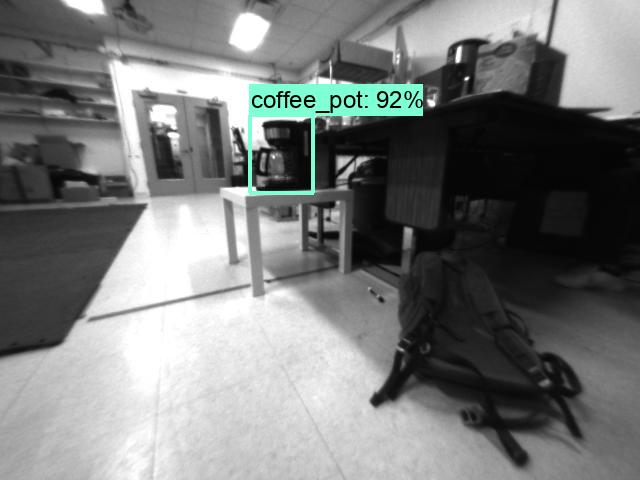coffee_pot: (248, 119, 316, 189)
